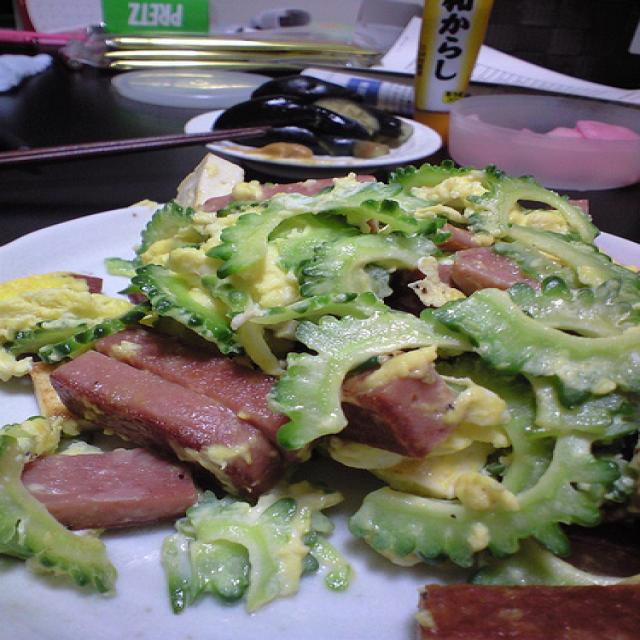熟制海鲜: (1, 176, 636, 640)
